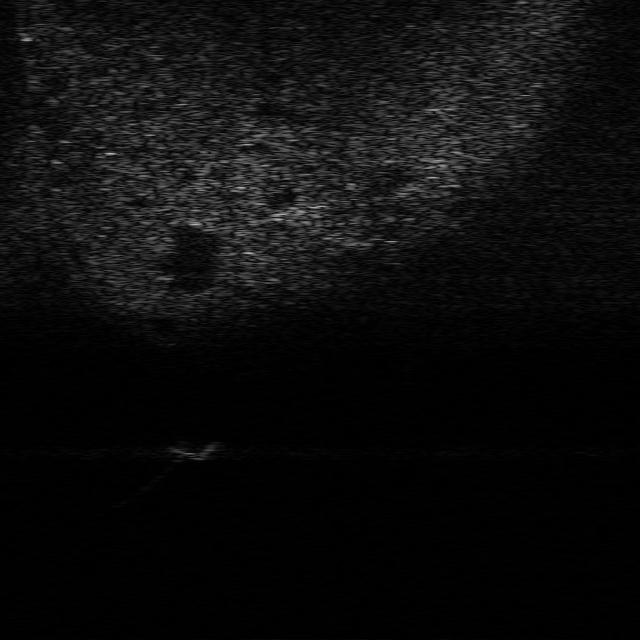cube: (168, 435, 224, 462)
